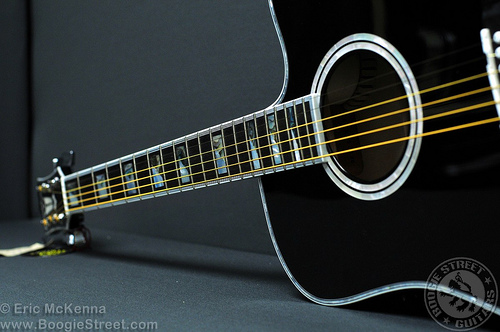guitar: (36, 1, 500, 325)
